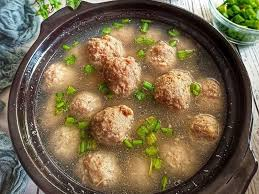bakso: (32, 29, 219, 182)
